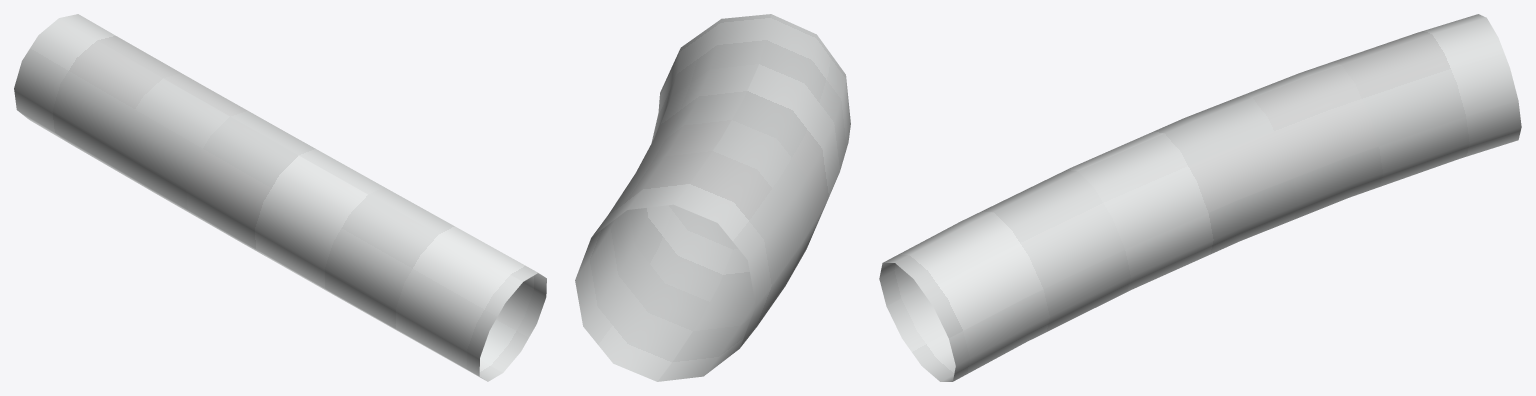
The model's file is luminairearm_vannuystriple_c7.obj.
3 renders of one model, left to right at view 1: azimuth 30°, elevation 25°; view 2: azimuth 150°, elevation 25°; view 3: azimuth 270°, elevation 25°, orthographic. The views are drawn at different scales.
Parts seen in each view (by area): view 1: luminairearm_vannuystriple_c7; view 2: luminairearm_vannuystriple_c7; view 3: luminairearm_vannuystriple_c7.
Boxes of the visible parts, x1,y1,x2,y2 form: luminairearm_vannuystriple_c7: (14,14,546,381); luminairearm_vannuystriple_c7: (575,14,850,381); luminairearm_vannuystriple_c7: (879,14,1521,381).
Size of the model in its own units: 0.4974 by 0.3618 by 0.8297.
